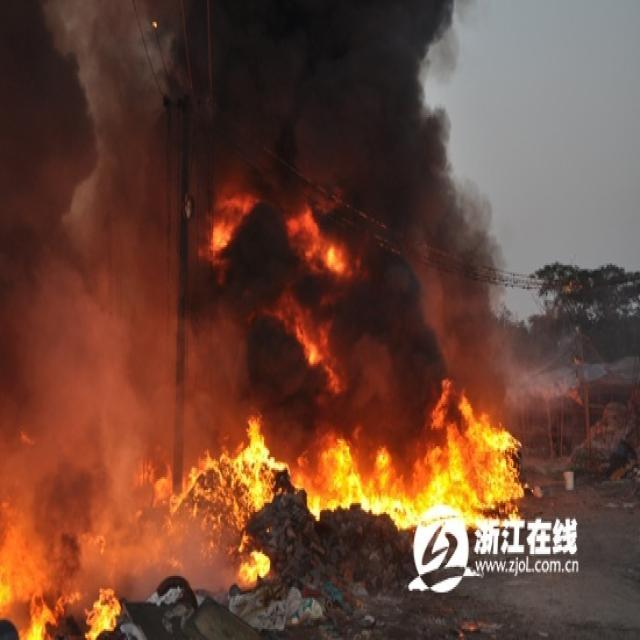Fire: (149, 192, 524, 589), (1, 576, 121, 640)
Smoke: (1, 1, 504, 596)
